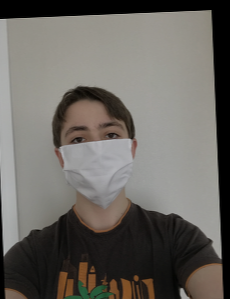with_mask: (58, 115, 135, 211)
